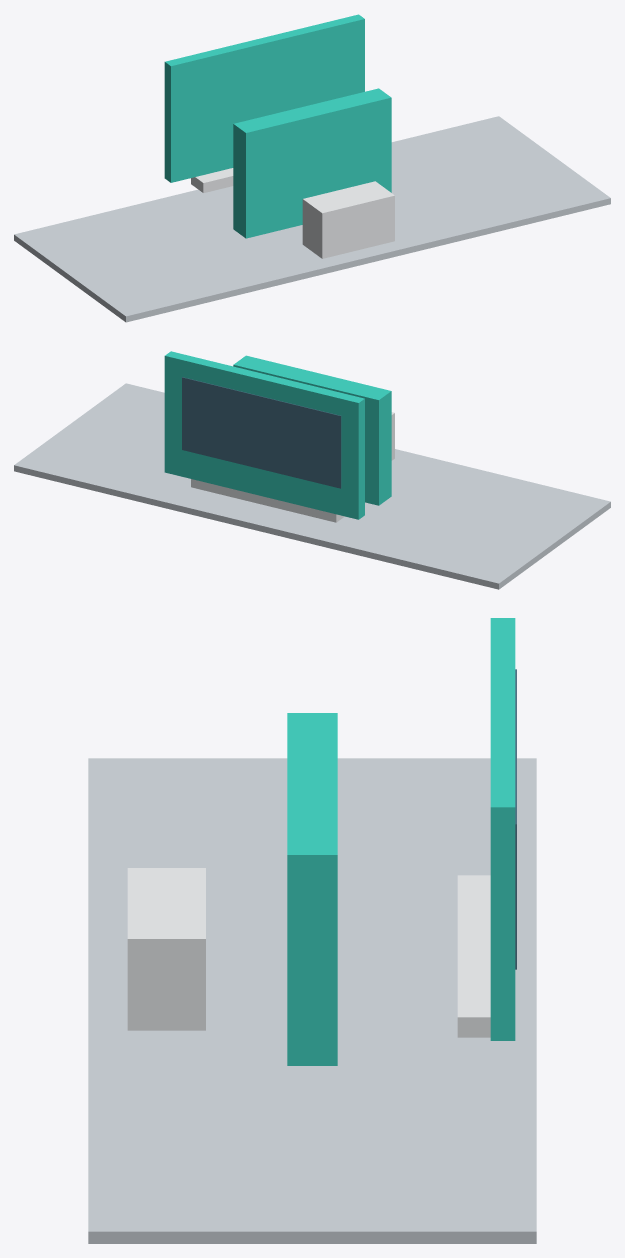
The picture shows the model from 3 angles, top to bottom: view 1: azimuth 30°, elevation 25°; view 2: azimuth 150°, elevation 25°; view 3: azimuth 270°, elevation 25°; orthographic projection. The views are drawn at different scales.
Visible parts, largest first — view 1: Exhibition Booth Concept; view 2: Exhibition Booth Concept; view 3: Exhibition Booth Concept.
Part boxes in pixels (bbox=[...]): Exhibition Booth Concept: bbox=[14, 14, 610, 322]; Exhibition Booth Concept: bbox=[14, 351, 610, 589]; Exhibition Booth Concept: bbox=[88, 618, 536, 1243].
Size of the model in its own units: 10 by 2.9 by 4.
